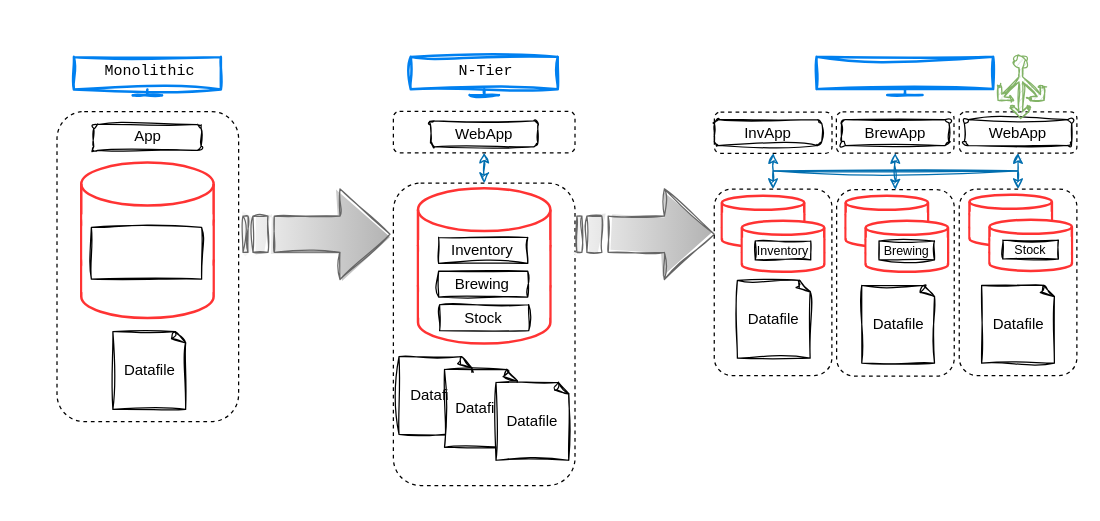
Image size: 1100x521. Some labels were removed from this diagram. Each missing label, with the box of its shape:
Brewery: (90, 226, 202, 279)
Microservices: (815, 55, 994, 96)
